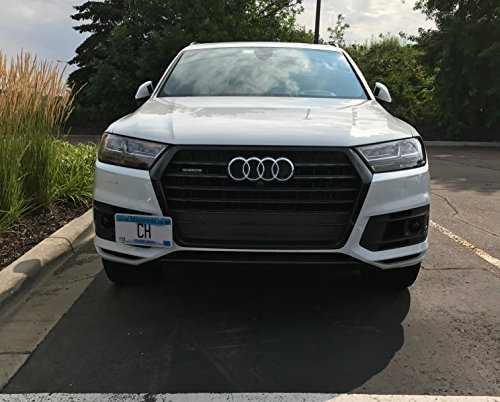audi: (223, 156, 299, 187)
